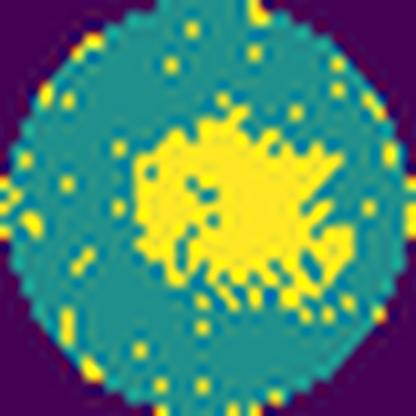Center: (137, 104, 355, 310)
